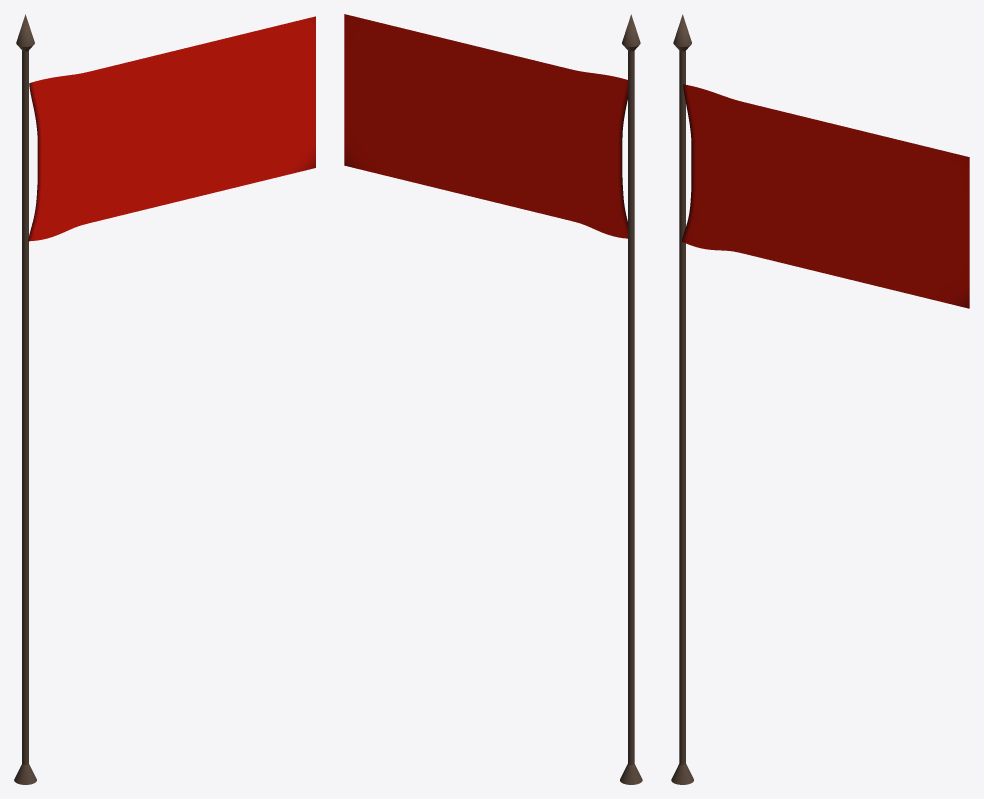
The model's file is Flag.fbx.
The picture shows the model from 3 angles, left to right: view 1: azimuth 30°, elevation 25°; view 2: azimuth 150°, elevation 25°; view 3: azimuth 330°, elevation 25°; orthographic projection.
Parts seen in each view (by area): view 1: Circle; view 2: Circle; view 3: Circle.
Part boxes in pixels (<box>): Circle: <box>14,14,315,784</box>; Circle: <box>344,14,642,784</box>; Circle: <box>671,14,969,784</box>.
Size of the model in its own units: 564 by 1383 by 37.5.
